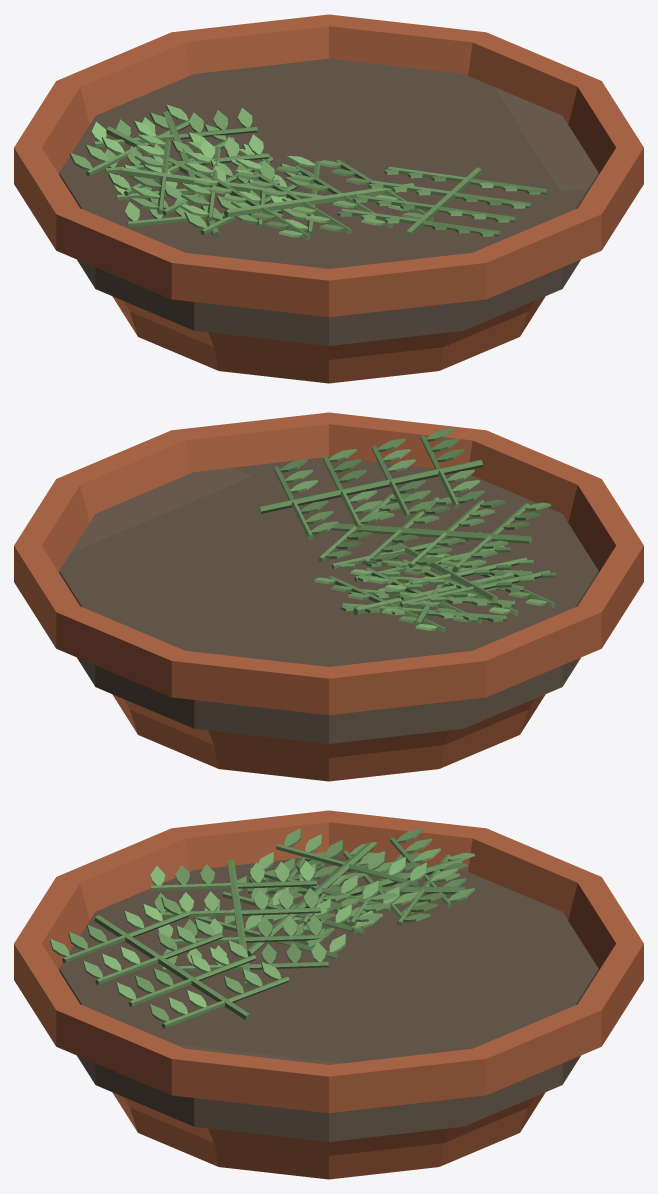
File: moss-tamariscinum.glb
3 renders of one model, top to bottom at view 1: azimuth 30°, elevation 25°; view 2: azimuth 150°, elevation 25°; view 3: azimuth 270°, elevation 25°, orthographic.
Parts seen in each view (by area): view 1: moss-tamariscinum/review-terra-vessel, moss-tamariscinum/review-rooted-soil, moss-tamariscinum/moss-axis-100, moss-tamariscinum/moss-axis-067, moss-tamariscinum/moss-axis-133, moss-tamariscinum/moss-axis-034, moss-tamariscinum/moss-axis-001; view 2: moss-tamariscinum/review-terra-vessel, moss-tamariscinum/review-rooted-soil, moss-tamariscinum/moss-axis-133, moss-tamariscinum/moss-axis-100, moss-tamariscinum/moss-axis-001, moss-tamariscinum/moss-axis-067; view 3: moss-tamariscinum/review-terra-vessel, moss-tamariscinum/review-rooted-soil, moss-tamariscinum/moss-axis-133, moss-tamariscinum/moss-axis-067, moss-tamariscinum/moss-axis-100, moss-tamariscinum/moss-axis-001, moss-tamariscinum/moss-axis-034.
Boxes of the visible parts, x1,y1,x2,y2 form: moss-tamariscinum/review-terra-vessel: (14, 14, 643, 383); moss-tamariscinum/review-rooted-soil: (59, 58, 598, 345); moss-tamariscinum/moss-axis-100: (224, 183, 414, 217); moss-tamariscinum/moss-axis-067: (120, 167, 345, 204); moss-tamariscinum/moss-axis-133: (404, 167, 481, 237); moss-tamariscinum/moss-axis-034: (106, 126, 284, 218); moss-tamariscinum/moss-axis-001: (163, 111, 220, 237); moss-tamariscinum/review-terra-vessel: (14, 412, 643, 781); moss-tamariscinum/review-rooted-soil: (59, 456, 598, 743); moss-tamariscinum/moss-axis-133: (259, 459, 482, 513); moss-tamariscinum/moss-axis-100: (329, 523, 531, 543); moss-tamariscinum/moss-axis-001: (353, 570, 521, 614); moss-tamariscinum/moss-axis-067: (390, 542, 497, 603); moss-tamariscinum/review-terra-vessel: (14, 810, 643, 1179); moss-tamariscinum/review-rooted-soil: (59, 855, 598, 1141); moss-tamariscinum/moss-axis-133: (94, 915, 251, 1020); moss-tamariscinum/moss-axis-067: (247, 842, 374, 956); moss-tamariscinum/moss-axis-100: (227, 859, 251, 988); moss-tamariscinum/moss-axis-001: (247, 886, 465, 894); moss-tamariscinum/moss-axis-034: (247, 858, 462, 919).
Bounding box in the file's own units: 0.25 × 0.0677 × 0.25.
3 materials, 3 textured.
